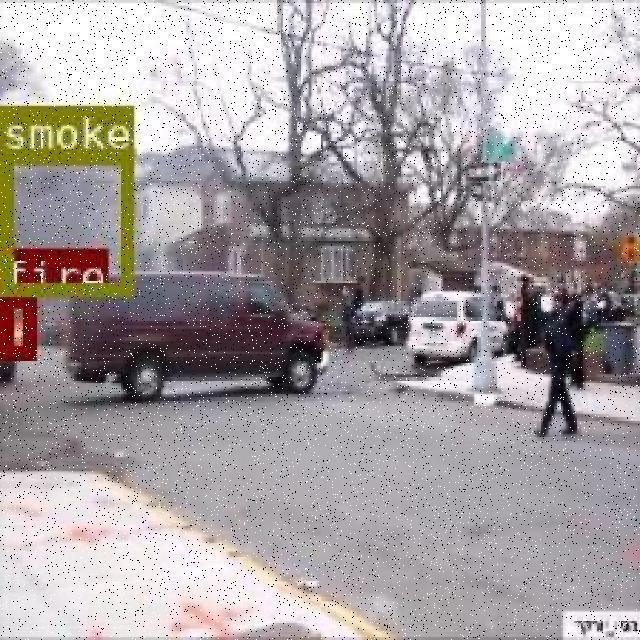Smoke: (32, 185, 97, 258)
